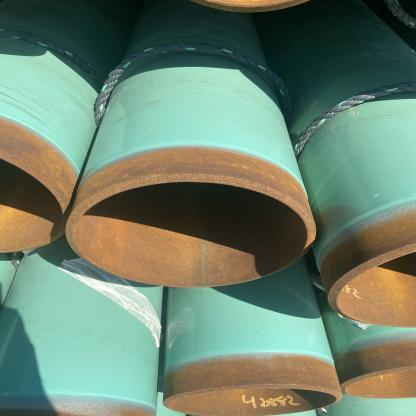clean: (174, 167, 241, 216)
